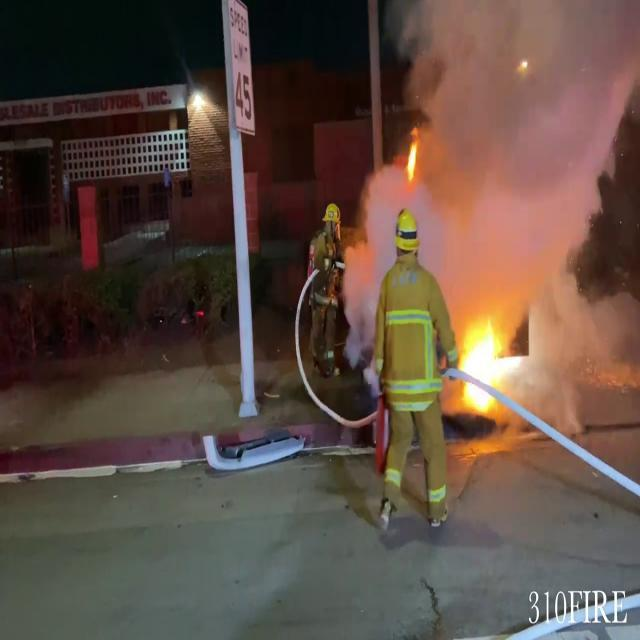Fire: (454, 311, 515, 403)
Smoke: (380, 2, 640, 306)
